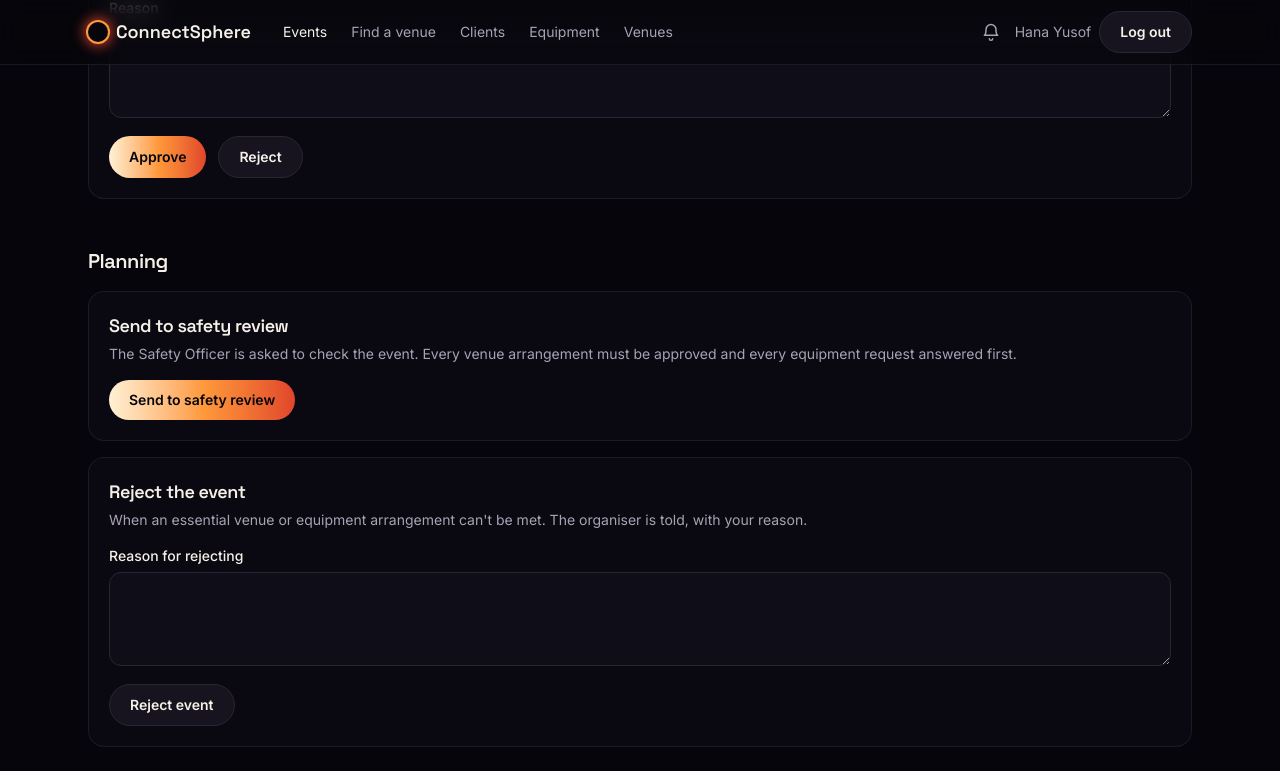
Scenario: SCRUM-97 sending an event to safety review › shows the backend's own words for a refusal, as they come
The image size is (1280, 771).
(page scrolled)
Click the button "Send to safety review": {"x": 202, "y": 400} [109,380,295,420]
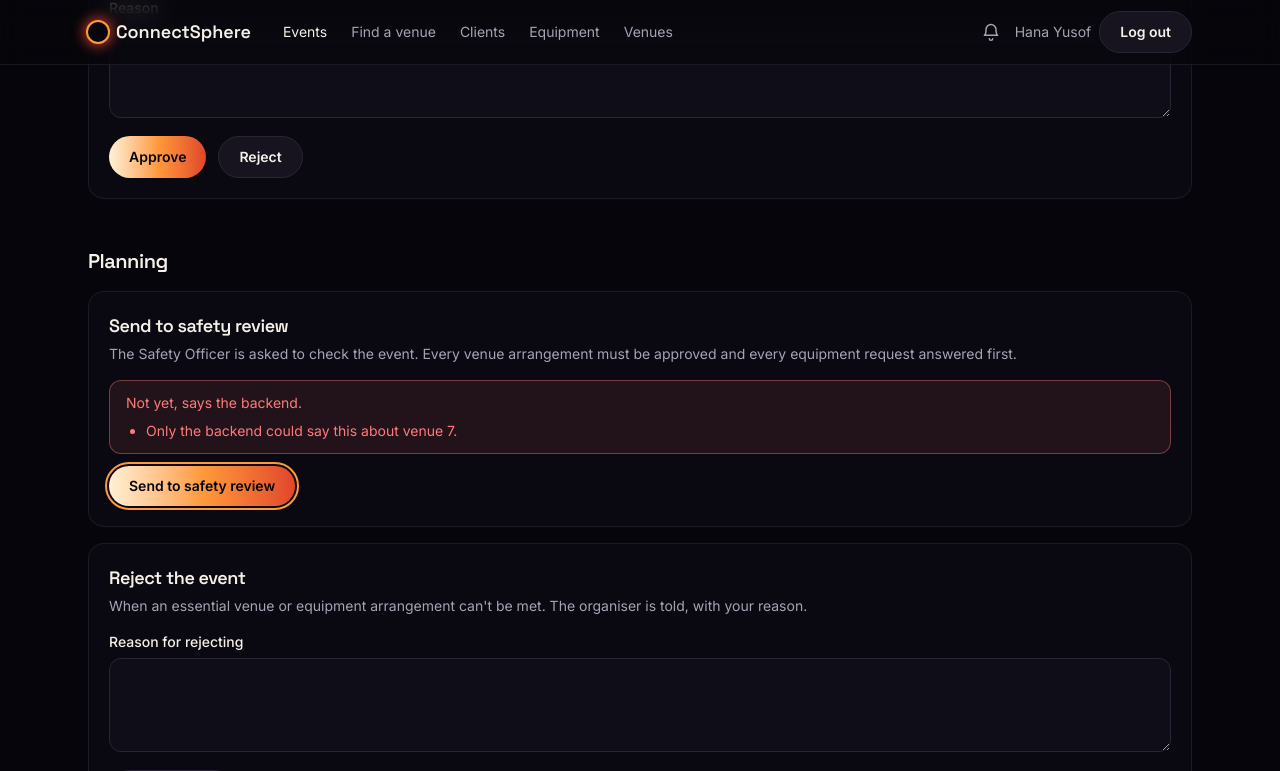
expect the message shows "Not yet, says the backend.": met, box [126,394,302,411]
expect the message shows "Only the backend could say this about venue 7.": met, box [146,422,457,439]
